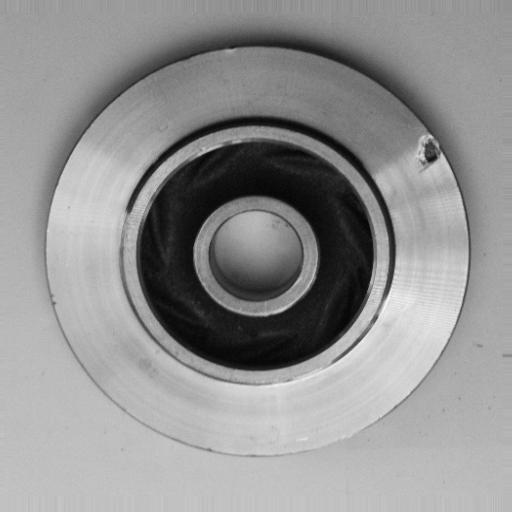crack: (404, 126, 450, 179)
unpolished_casting: (44, 39, 473, 457)
